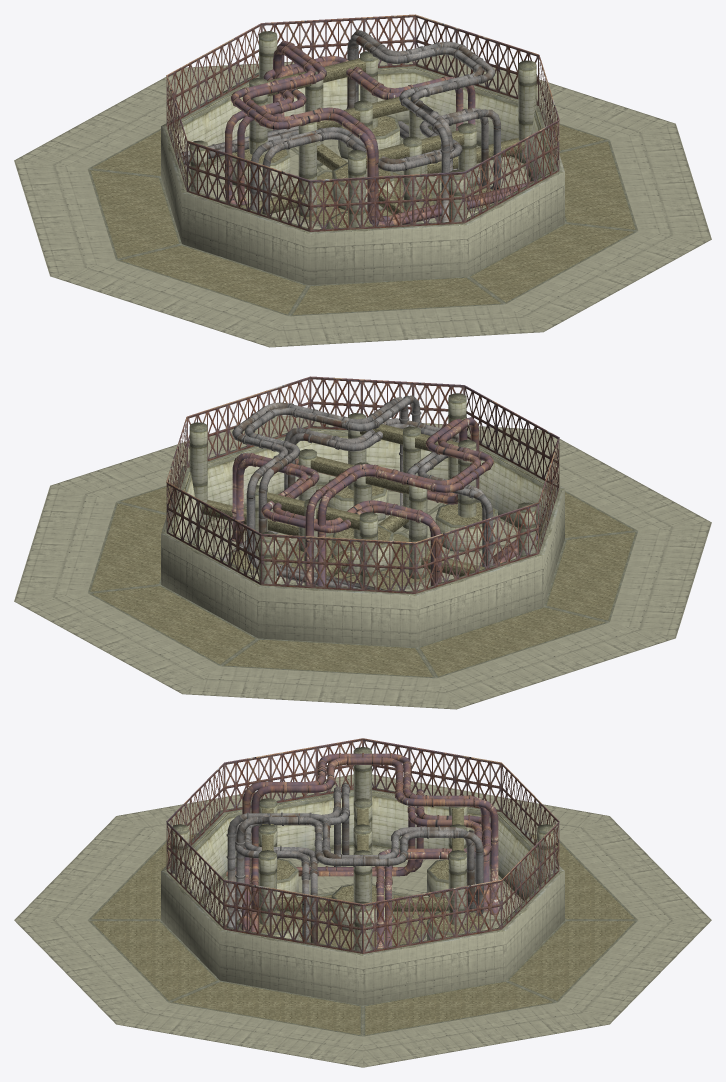
The model's file is BASKET_SHESH.fbx.
3 views of the same model, one above another, from view 1: azimuth 30°, elevation 25°; view 2: azimuth 150°, elevation 25°; view 3: azimuth 270°, elevation 25° (orthographic). The views are drawn at different scales.
Visible parts, largest first — view 1: Basket_Shesh CONCRETE, Basket_Shesh METAL; view 2: Basket_Shesh CONCRETE, Basket_Shesh METAL; view 3: Basket_Shesh CONCRETE, Basket_Shesh METAL.
Part boxes in pixels (box(x1,y1,x2,y2)): Basket_Shesh CONCRETE: box(14, 31, 711, 347); Basket_Shesh METAL: box(166, 14, 559, 231); Basket_Shesh CONCRETE: box(14, 393, 711, 709); Basket_Shesh METAL: box(166, 376, 559, 593); Basket_Shesh CONCRETE: box(14, 747, 711, 1067); Basket_Shesh METAL: box(166, 738, 559, 953).
Bounding box in the file's own units: 103 × 19.32 × 103.
